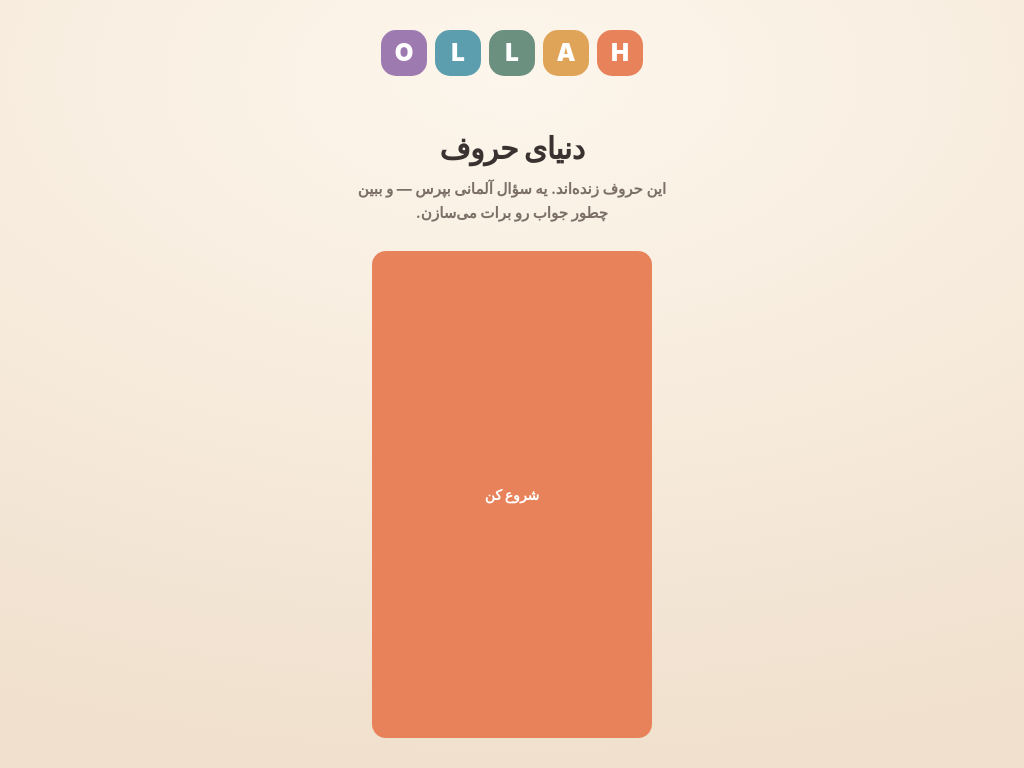
Test case: AlphabetWorld offline warning › dismisses the banner with the later button
Click the button "شروع کن".
click(512, 494)  # box [372, 251, 652, 738]
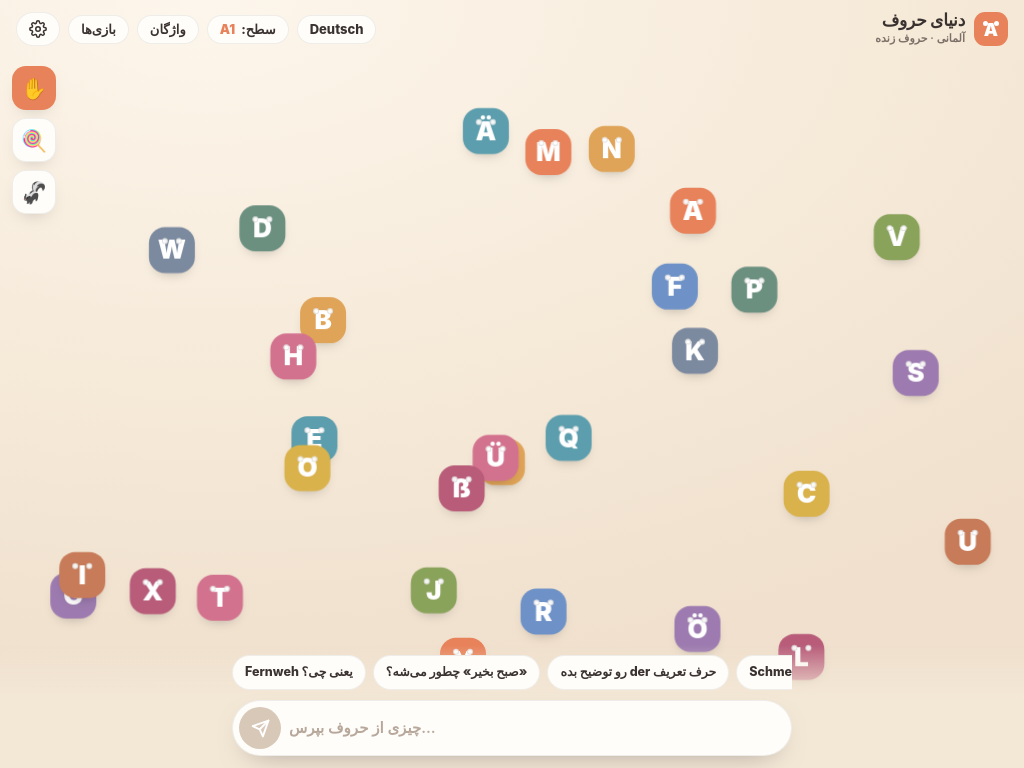
Type "Hallo" into the field with placeholder "چیزی از حروف بپرس…".
click(532, 728); type("Hallo")  # box [289, 717, 775, 739]
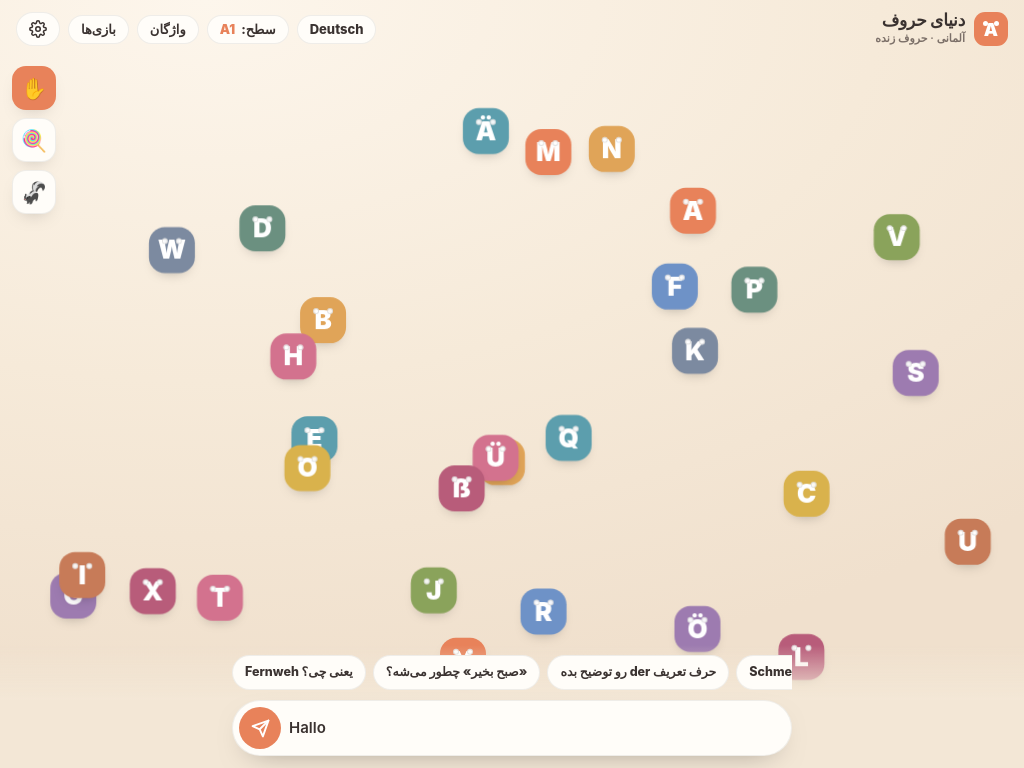
Click the button named "ارسال".
click(260, 728)  # box [239, 707, 281, 749]
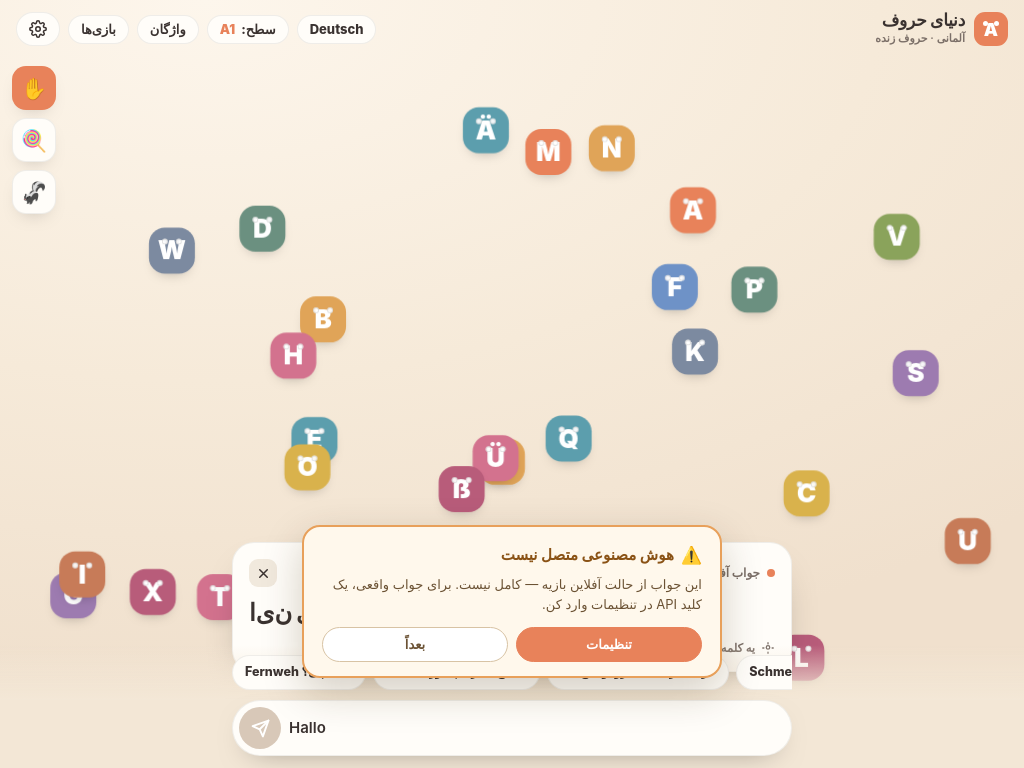
Click the button "بعداً".
click(415, 644)  # box [322, 626, 508, 662]
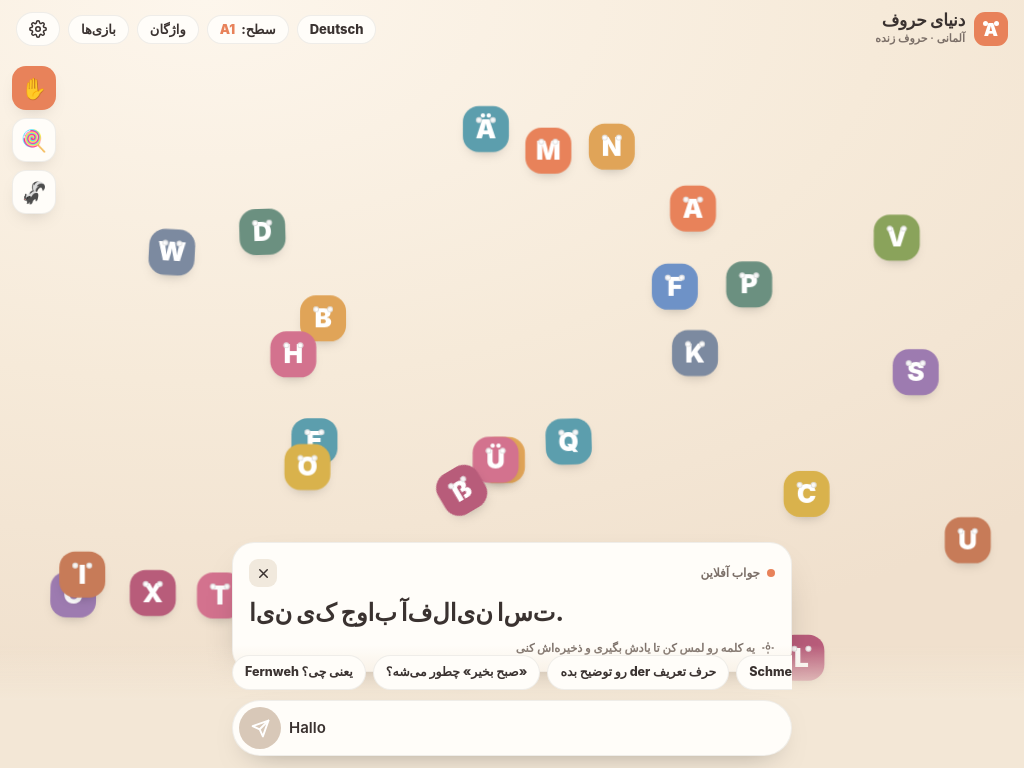
expect the text "هوش مصنوعی متصل نیست" is gone: met
